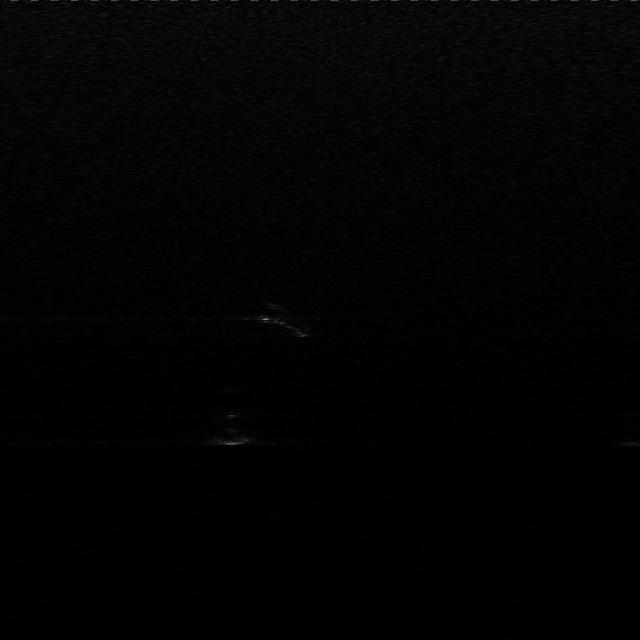ball: (193, 395, 262, 447)
tyre: (243, 298, 324, 343)
